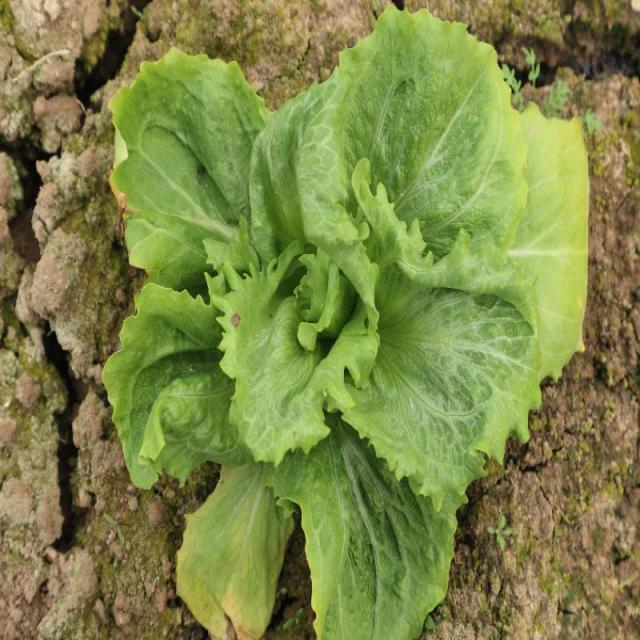crop: (100, 5, 592, 640)
